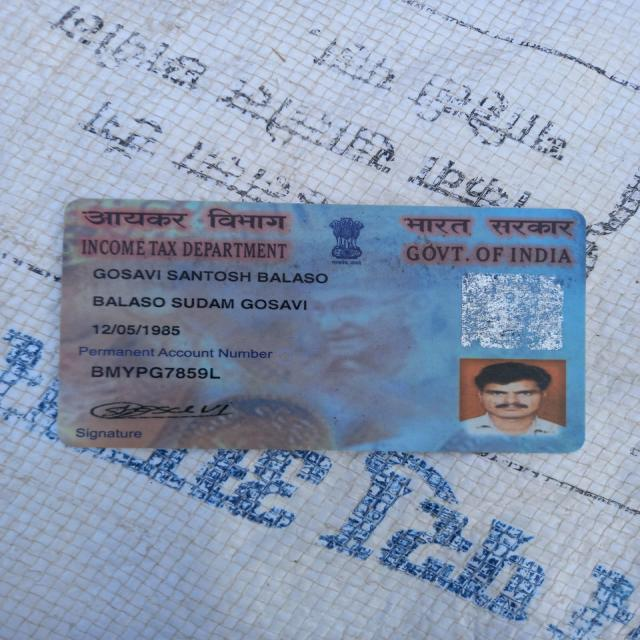pan_card: (53, 196, 590, 451)
